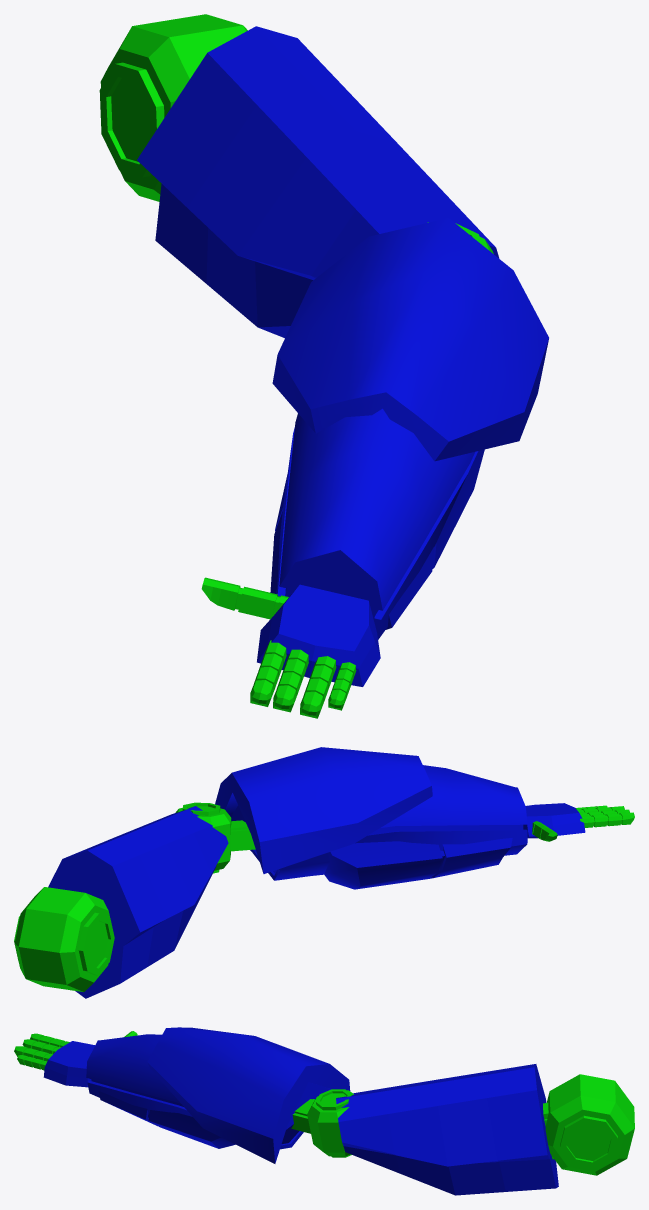
The model's file is MechLArm.fbx.
The picture shows the model from 3 angles, top to bottom: view 1: azimuth 30°, elevation 25°; view 2: azimuth 150°, elevation 25°; view 3: azimuth 270°, elevation 25°; orthographic projection. The views are drawn at different scales.
Parts seen in each view (by area): view 1: geo_L_ARm; view 2: geo_L_ARm; view 3: geo_L_ARm.
Part boxes in pixels (left/top/right/bottom): geo_L_ARm: left=99, top=14, right=548, bottom=718; geo_L_ARm: left=14, top=747, right=634, bottom=998; geo_L_ARm: left=14, top=1027, right=634, bottom=1195.
Bounding box in the file's own units: 284 × 122 × 517.
